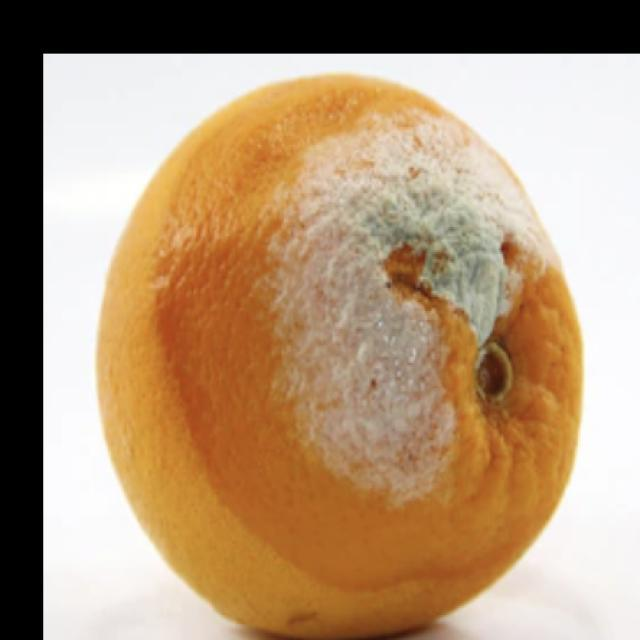sedikit-busuk: (97, 75, 582, 637), (272, 122, 532, 497)
